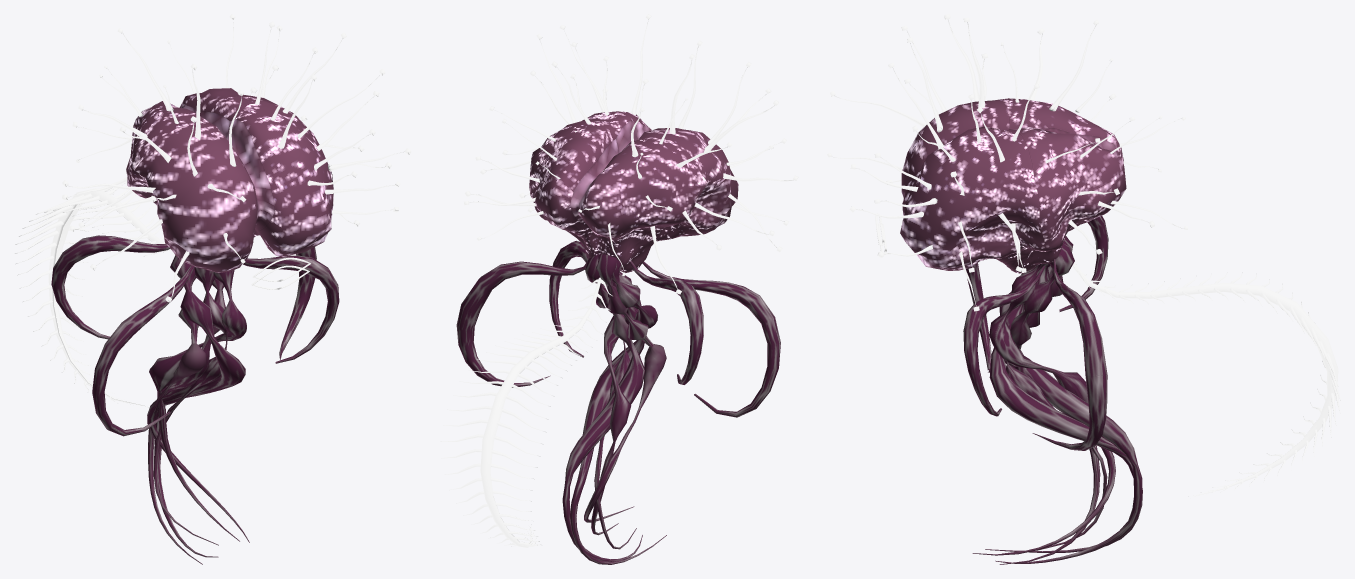
File: sentience.glb
3 views of the same model, side by side, from view 1: azimuth 30°, elevation 25°; view 2: azimuth 150°, elevation 25°; view 3: azimuth 270°, elevation 25° (orthographic). The views are drawn at different scales.
Visible parts, largest first — view 1: SENTIENCE; view 2: SENTIENCE; view 3: SENTIENCE.
Boxes of the visible parts, x1=… form: SENTIENCE: x1=15, y1=14, x2=411, y2=564; SENTIENCE: x1=440, y1=14, x2=798, y2=564; SENTIENCE: x1=827, y1=14, x2=1340, y2=564.
Bounding box in the file's own units: 4.3 × 6.61 × 5.8.
1 material, 1 textured.
